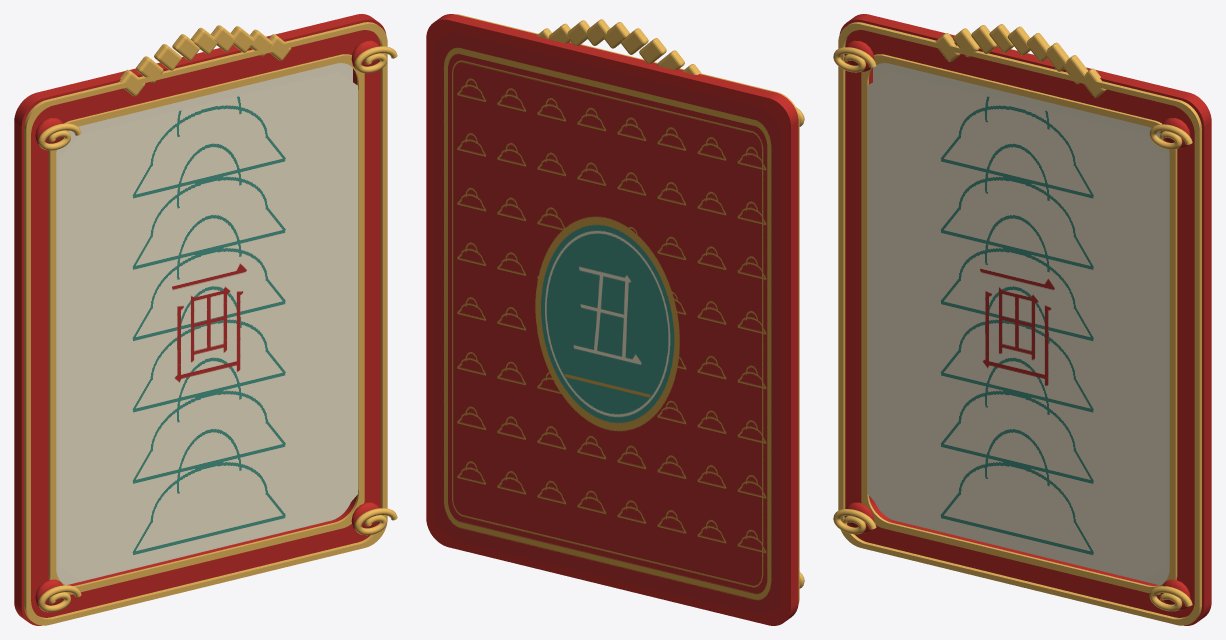
Rendered from joker-frame-legendary.glb.
3 renders of one model, left to right at view 1: azimuth 30°, elevation 25°; view 2: azimuth 150°, elevation 25°; view 3: azimuth 330°, elevation 25°, orthographic.
Parts seen in each view (by area): view 1: ReplaceableIllustration, Frame_legendary; view 2: Frame_legendary; view 3: ReplaceableIllustration, Frame_legendary.
Boxes of the visible parts, x1,y1,x2,y2 form: ReplaceableIllustration: [59, 72, 358, 580]; Frame_legendary: [14, 14, 397, 625]; Frame_legendary: [426, 14, 804, 625]; ReplaceableIllustration: [867, 72, 1166, 580]; Frame_legendary: [833, 14, 1211, 625].
Size of the model in its own units: 2.1 by 3.07 by 0.218.
5 materials, 2 textured.
